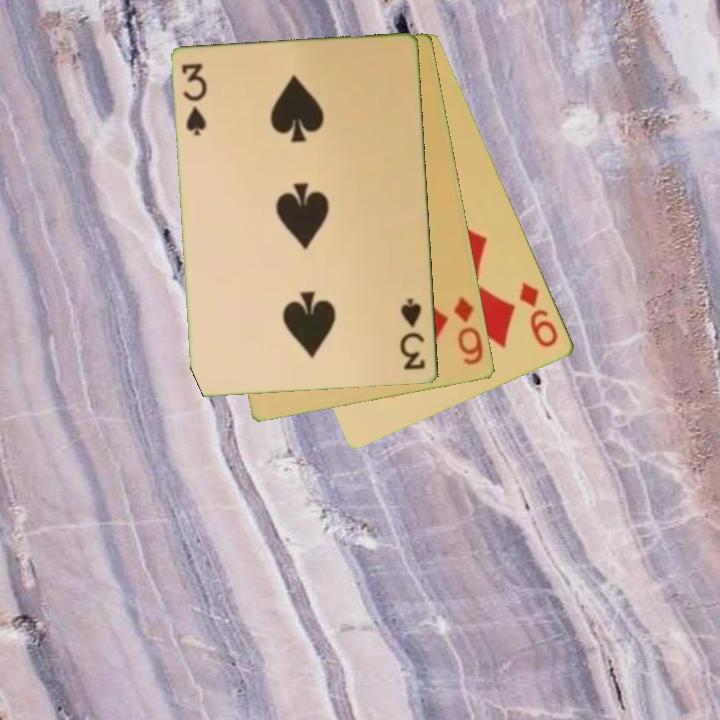3s: (398, 295, 429, 374), (179, 60, 210, 139)
6d: (450, 293, 487, 369)
9d: (516, 278, 562, 351)
